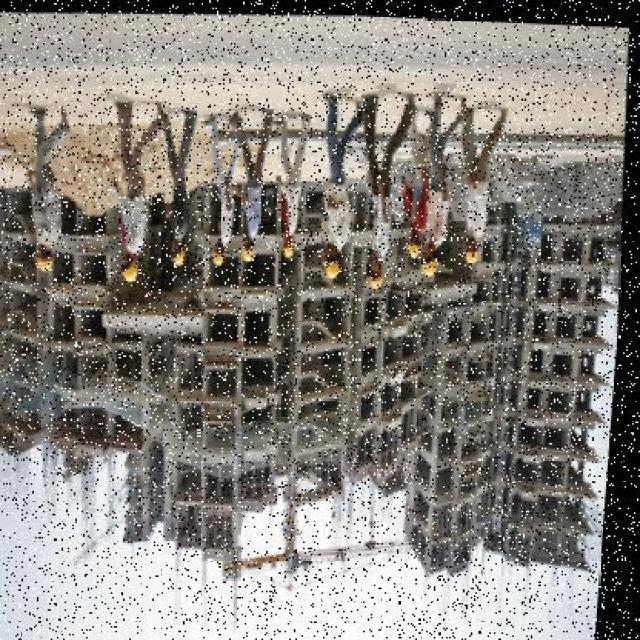helmet: (122, 262, 142, 284), (326, 255, 344, 273), (371, 271, 391, 287), (37, 254, 55, 270), (425, 255, 440, 273), (286, 240, 300, 259), (216, 246, 228, 266), (176, 248, 189, 264), (247, 243, 260, 259), (469, 246, 482, 258)
